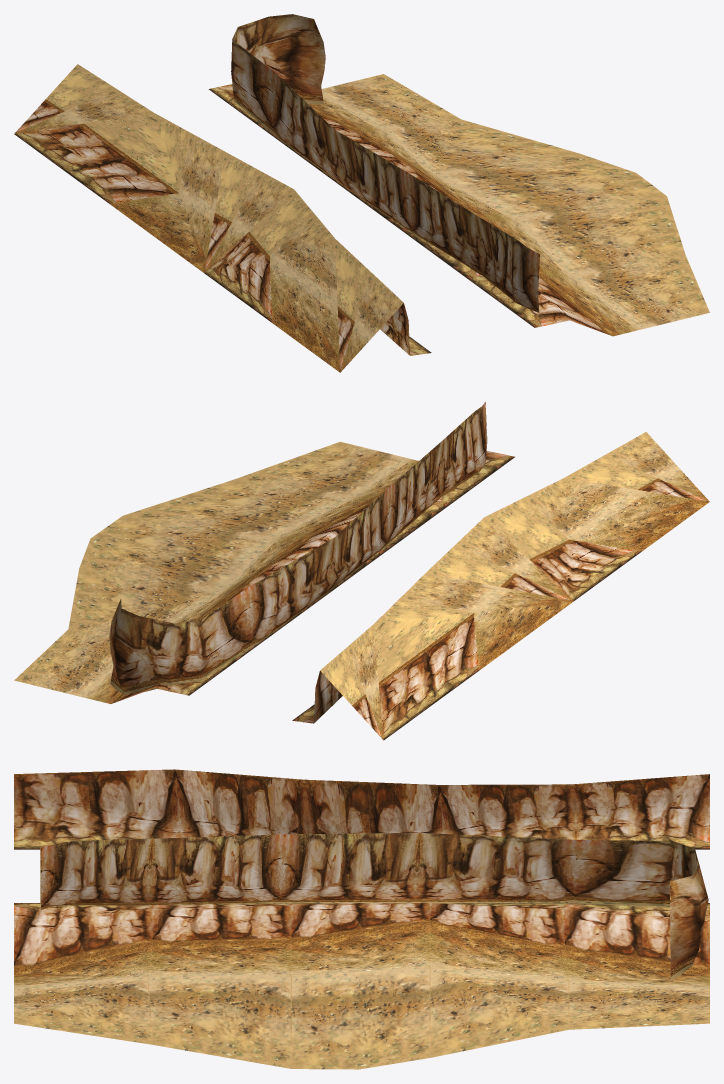
The model's file is us_cany_mid_01.fbx.
3 renders of one model, top to bottom at view 1: azimuth 30°, elevation 25°; view 2: azimuth 150°, elevation 25°; view 3: azimuth 270°, elevation 25°, orthographic. The views are drawn at different scales.
Visible parts, largest first — view 1: us_cany_mid_01; view 2: us_cany_mid_01; view 3: us_cany_mid_01.
Boxes of the visible parts, box(x1,y1,x2,y2) form: us_cany_mid_01: box(14, 14, 709, 372); us_cany_mid_01: box(14, 401, 709, 740); us_cany_mid_01: box(14, 769, 709, 1069).
Size of the model in its own units: 8102 by 1559 by 10000.
